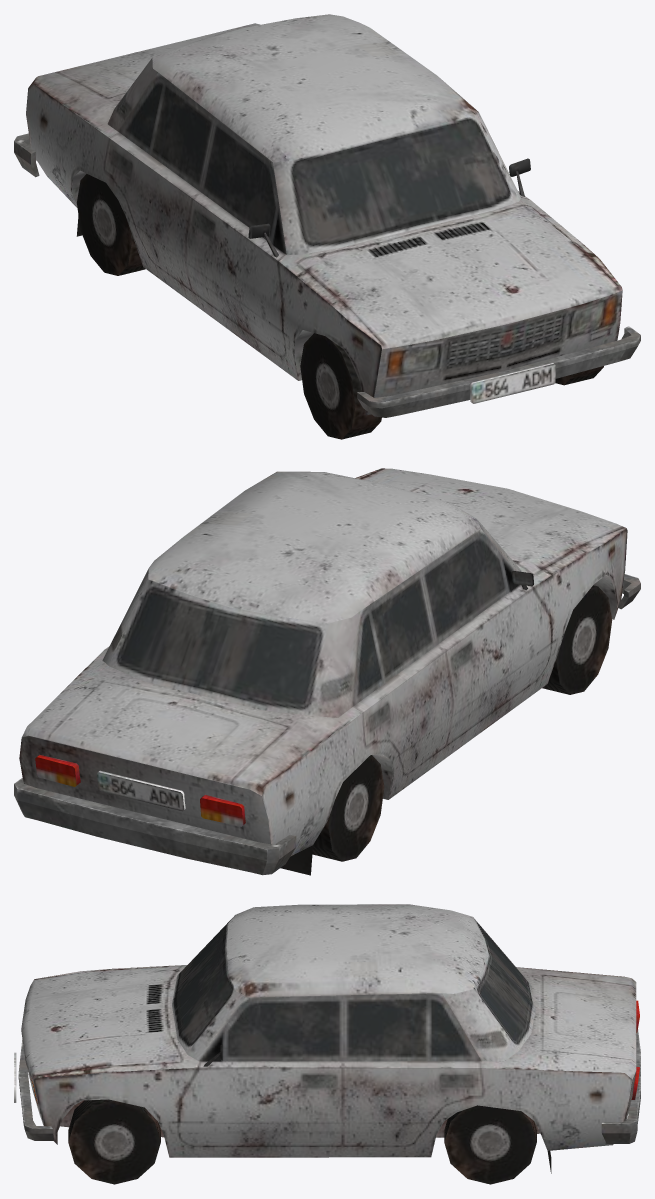
File: car_zhiguli_3.glb
3 renders of one model, top to bottom at view 1: azimuth 30°, elevation 25°; view 2: azimuth 150°, elevation 25°; view 3: azimuth 270°, elevation 25°, orthographic. The views are drawn at different scales.
Parts seen in each view (by area): view 1: car_zhiguli_3; view 2: car_zhiguli_3; view 3: car_zhiguli_3.
Part boxes in pixels (x1,y1,x2,y2): car_zhiguli_3: (14, 14, 640, 439); car_zhiguli_3: (14, 468, 640, 875); car_zhiguli_3: (14, 904, 640, 1184).
Bounding box in the file's own units: 1.8 × 1.43 × 4.12.
1 material, 1 textured.
